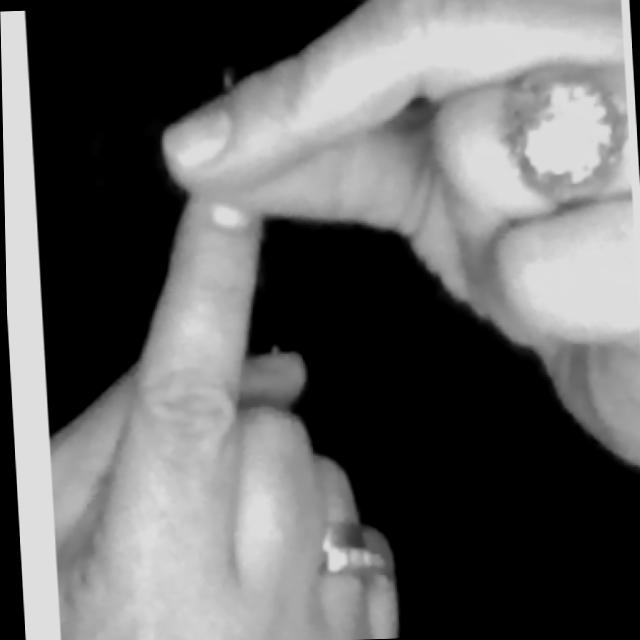I-: (26, 0, 640, 640)
